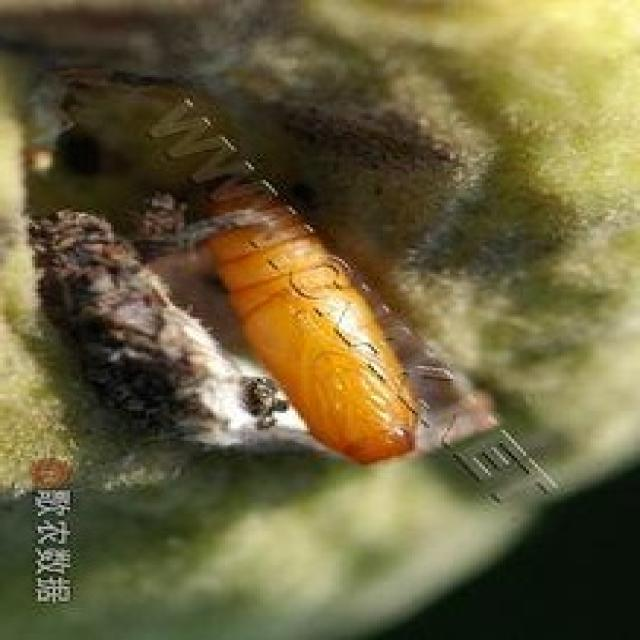peach borer: (120, 109, 427, 467)
